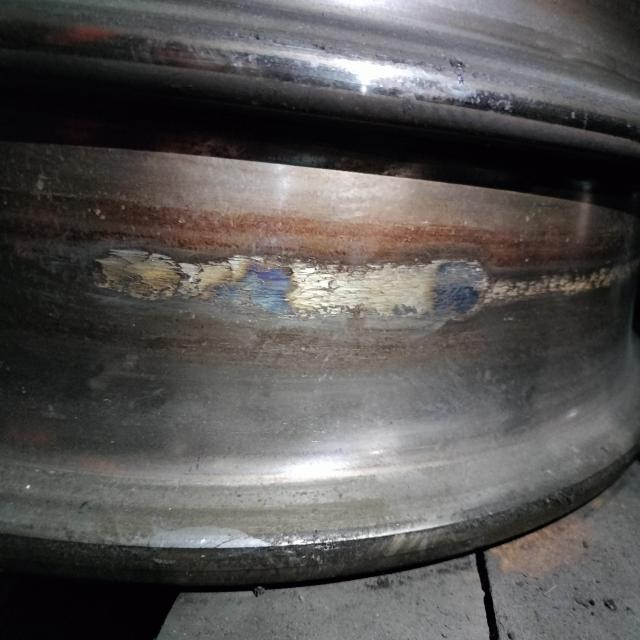flat: (94, 241, 618, 327)
